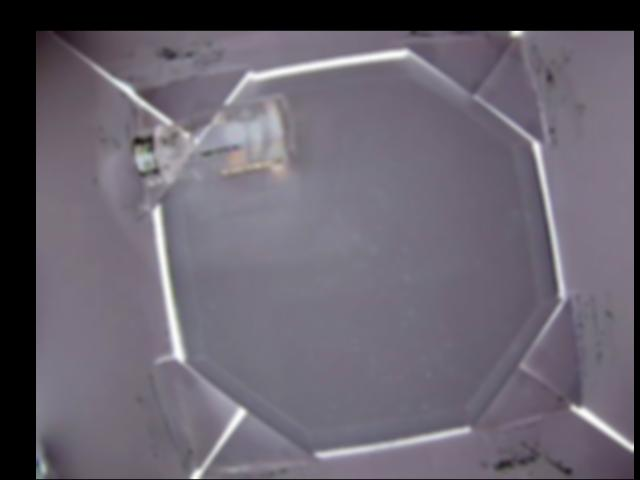Bottle: (130, 97, 296, 184)
